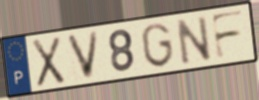8: (107, 28, 137, 74)
F: (209, 8, 246, 62)
G: (139, 21, 176, 69)
N: (174, 13, 214, 67)
V: (64, 29, 101, 82)
X: (30, 34, 67, 89)
